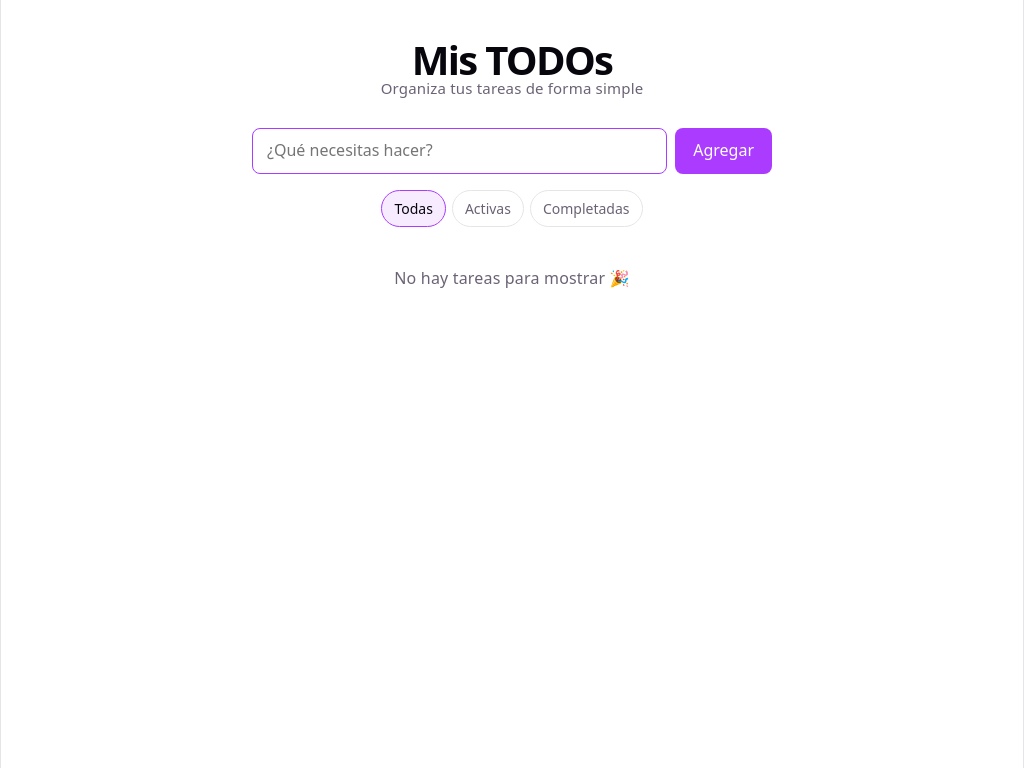
App de TODOs › agrega una tarea al enviar el formulario
Type "Aprender React" into the field with placeholder "¿Qué necesitas hacer?" at x=460, y=151, box [252,128,667,174]
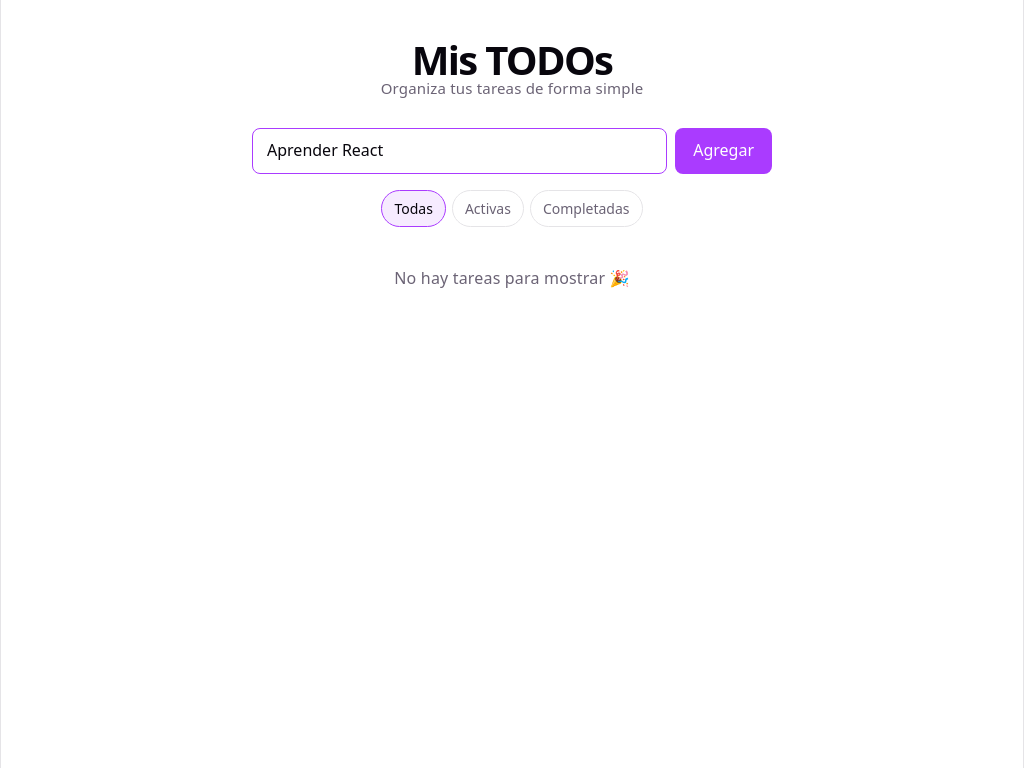
Click the button "Agregar" at x=724, y=151, box [675,128,772,174]
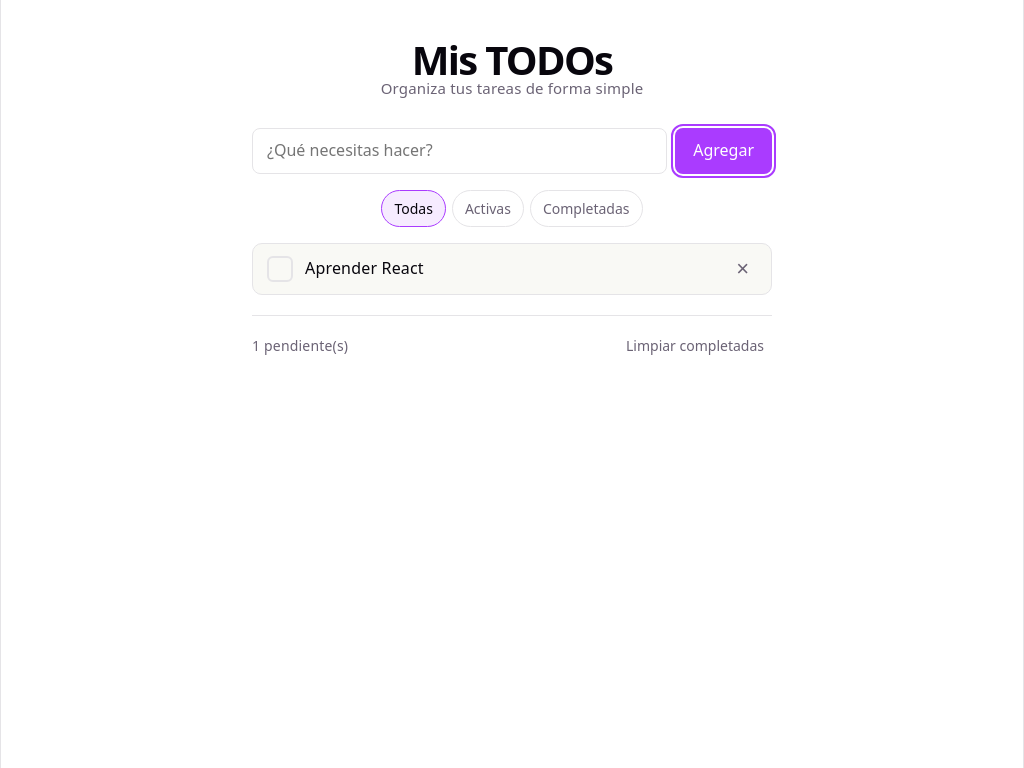
Result: the text "Aprender React" is shown at [305,257,424,279]
Result: the field with placeholder "¿Qué necesitas hacer?" is empty at [252,128,667,174]
Result: the text "1 pendiente(s)" is shown at [252,334,348,357]
